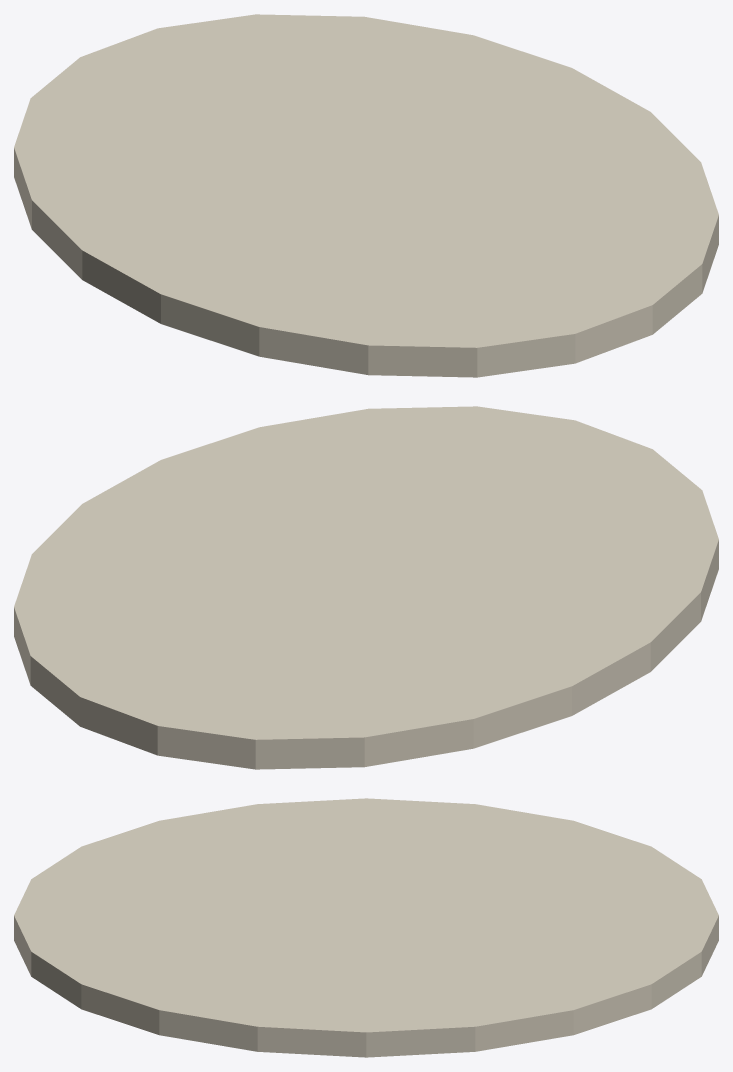
The model's file is SM_VKI_FX_WindowPool.fbx.
3 renders of one model, top to bottom at view 1: azimuth 30°, elevation 25°; view 2: azimuth 150°, elevation 25°; view 3: azimuth 270°, elevation 25°, orthographic. The views are drawn at different scales.
Parts seen in each view (by area): view 1: SM_VKI_FX_WindowPool.001; view 2: SM_VKI_FX_WindowPool.001; view 3: SM_VKI_FX_WindowPool.001.
Boxes of the visible parts, x1=… form: SM_VKI_FX_WindowPool.001: x1=14, y1=14, x2=718, y2=377; SM_VKI_FX_WindowPool.001: x1=14, y1=406, x2=718, y2=769; SM_VKI_FX_WindowPool.001: x1=14, y1=798, x2=718, y2=1057.
Bounding box in the file's own units: 1.1 × 0.055 × 1.4.
